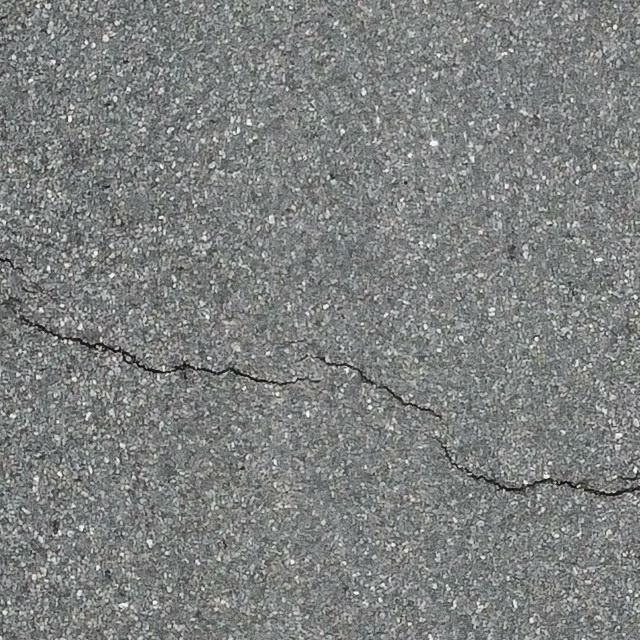TransverseCrack: (16, 309, 321, 386), (426, 431, 640, 495), (298, 353, 447, 420)
